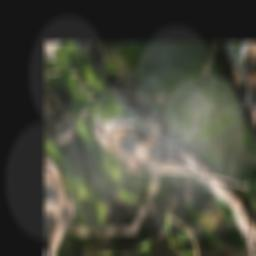Cuckoo: (82, 70, 252, 239)
